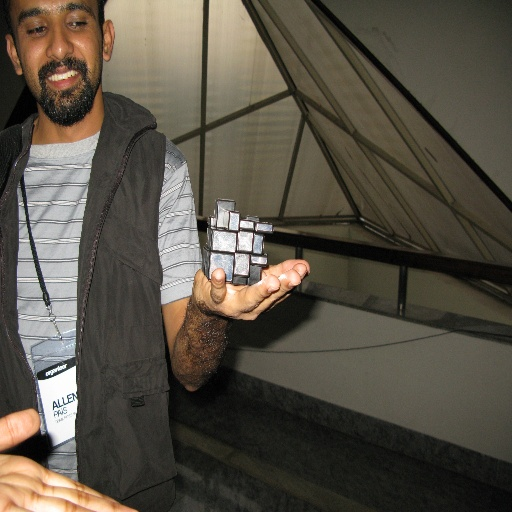hand: (0, 405, 138, 511), (197, 259, 310, 333)
